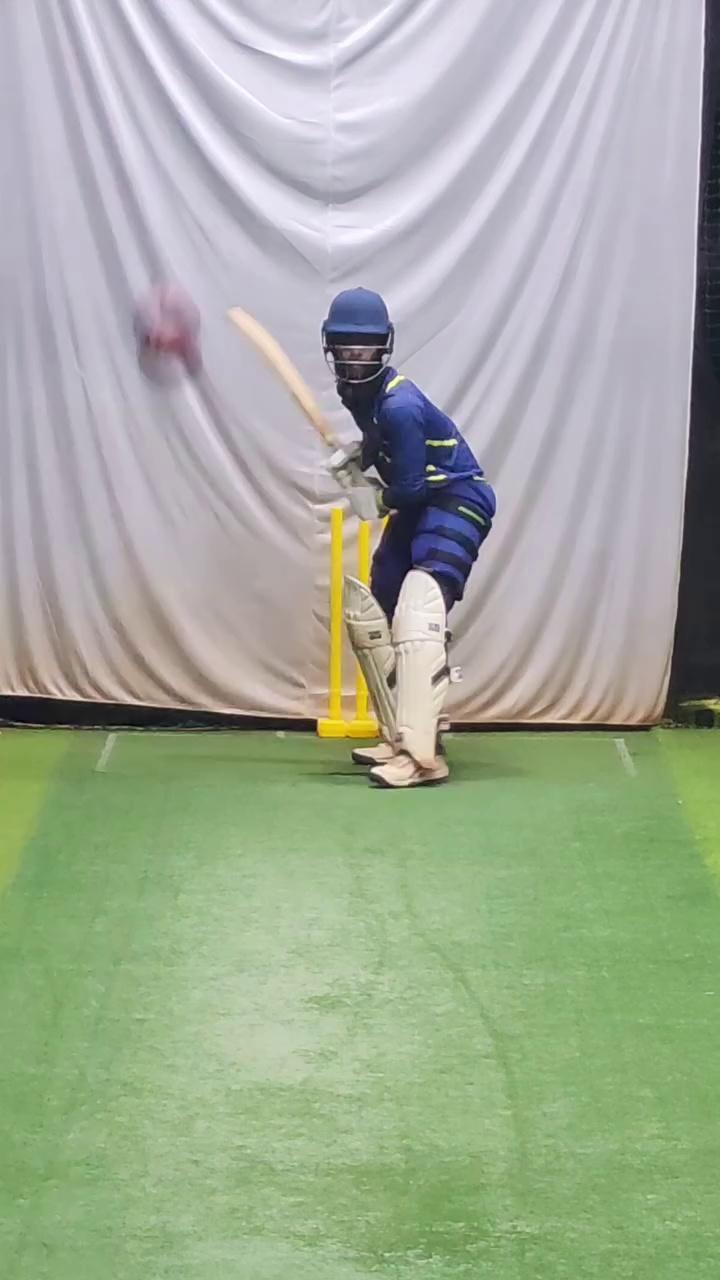bat: (223, 294, 342, 456)
